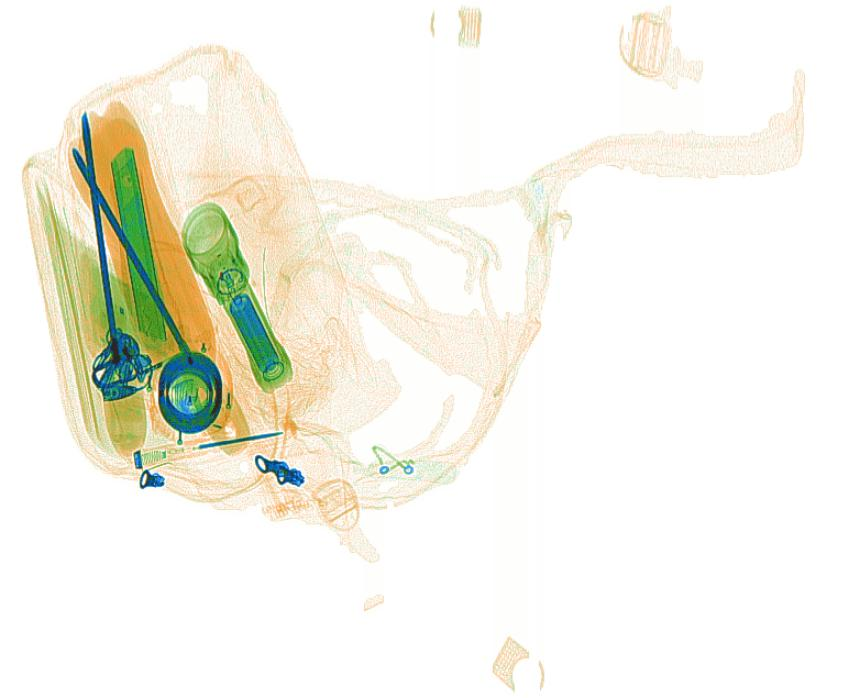battery: (227, 291, 281, 376)
knife: (110, 146, 169, 342)
